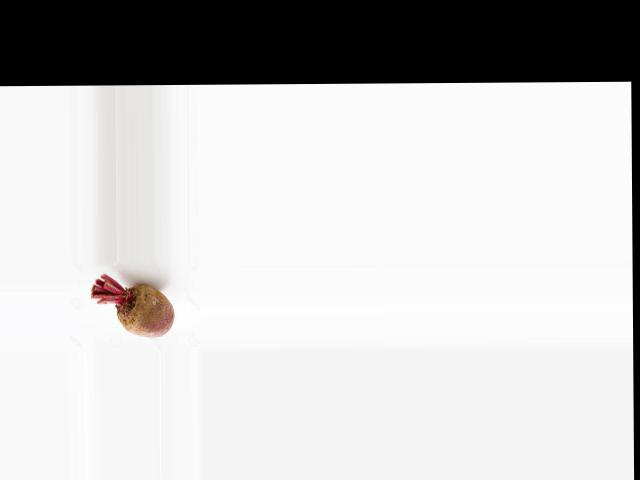beet: (91, 272, 175, 338)
